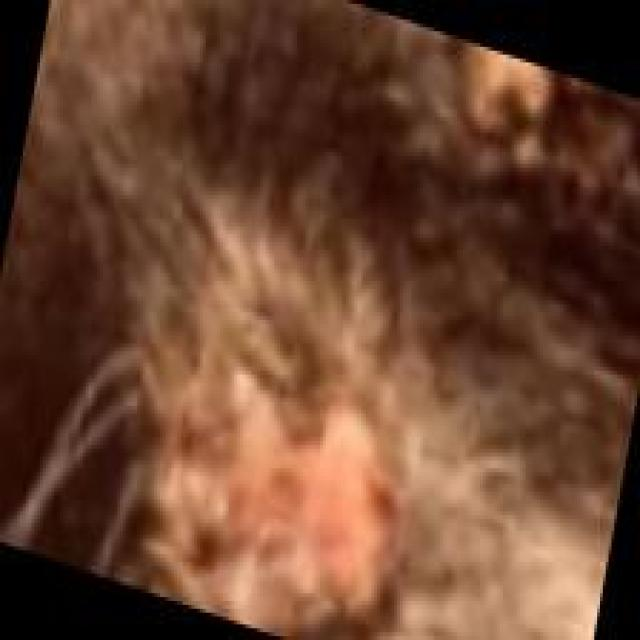cat-ringworm: (231, 399, 369, 582)
